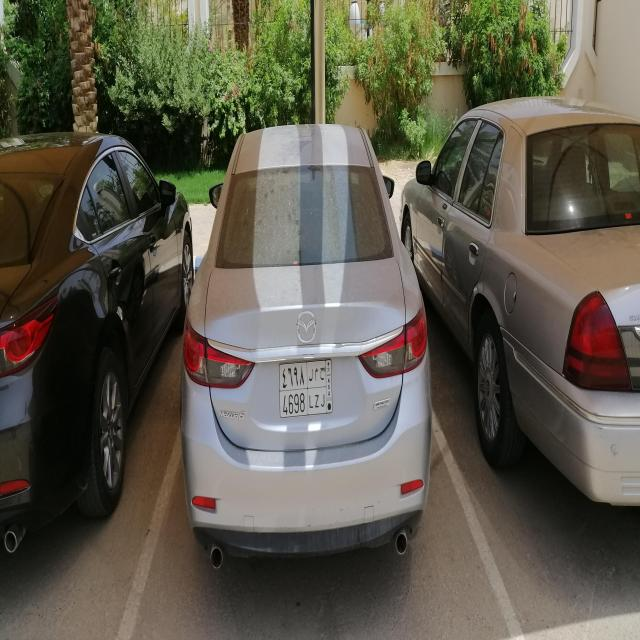license_plate: (278, 360, 333, 416)
